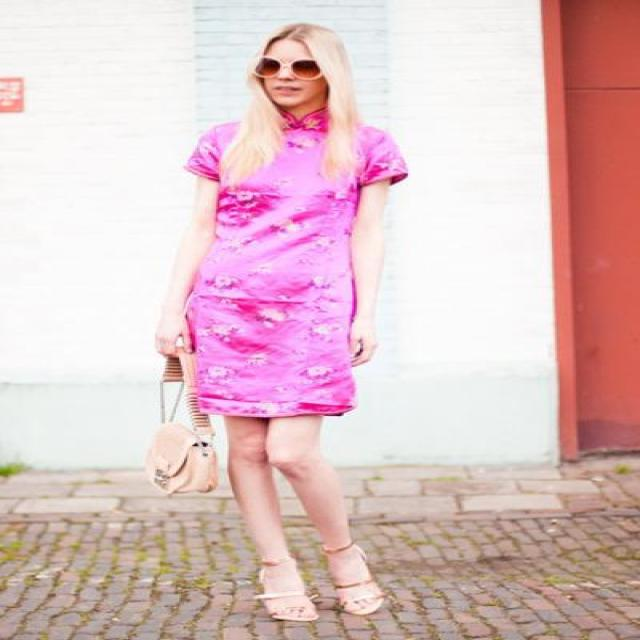bag: (147, 354, 200, 510)
dress: (184, 126, 406, 418)
sunglass: (293, 64, 328, 100)
